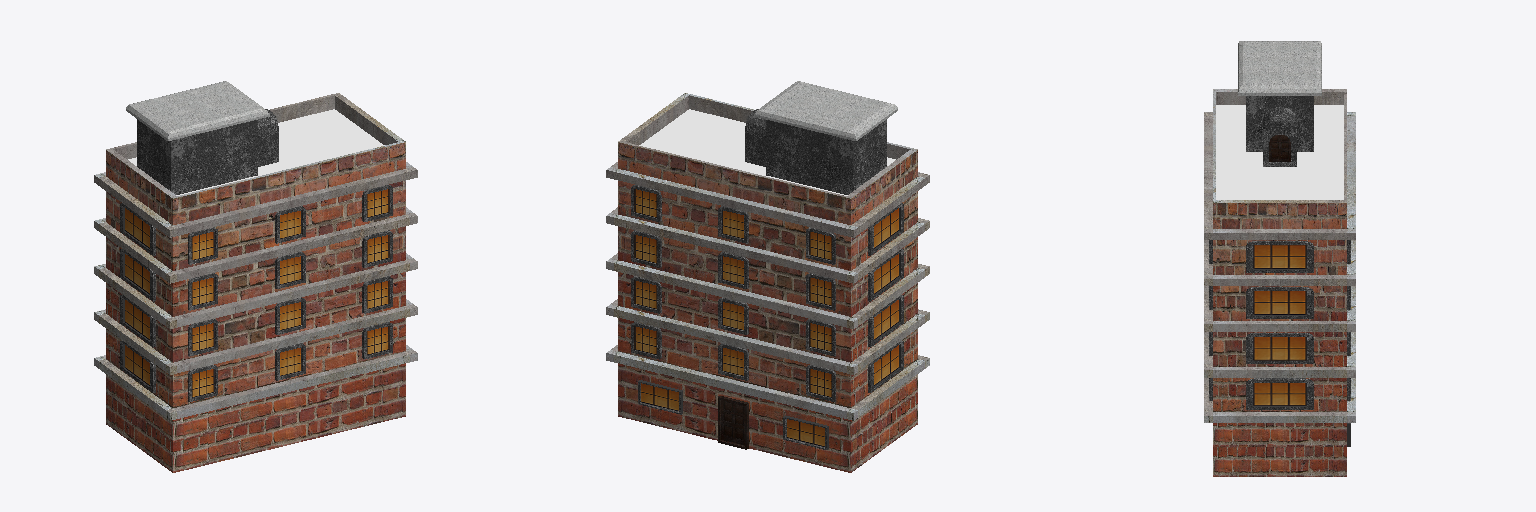
The picture shows the model from 3 angles: view 1: azimuth 30°, elevation 25°; view 2: azimuth 150°, elevation 25°; view 3: azimuth 270°, elevation 25°; orthographic projection.
Parts seen in each view (by area): view 1: Mesh; view 2: Mesh; view 3: Mesh.
Part boxes in pixels (x1,y1,x2,y2): Mesh: (94, 81, 417, 472); Mesh: (606, 81, 929, 472); Mesh: (1204, 41, 1355, 476).
Bounding box in the file's own units: 17 × 21.54 × 9.
Materials: 7 (6 with a texture image).